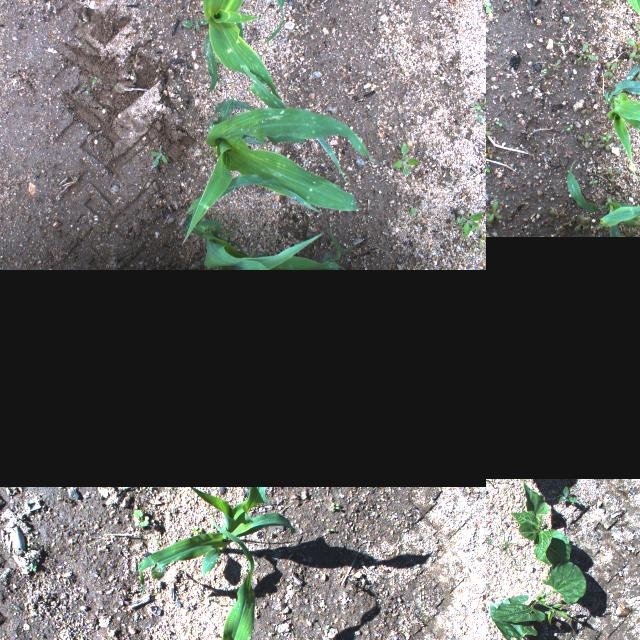crop: (181, 64, 371, 246), (137, 486, 295, 594), (120, 515, 254, 640), (182, 174, 356, 268), (202, 0, 313, 100), (541, 0, 640, 76), (491, 562, 585, 626), (566, 160, 640, 236), (510, 482, 570, 564), (605, 61, 640, 182), (489, 594, 557, 640), (239, 0, 287, 45)
weed: (486, 530, 518, 564), (392, 142, 422, 176), (457, 210, 483, 238), (570, 43, 596, 63), (150, 144, 168, 170), (182, 15, 212, 30), (572, 215, 592, 233), (487, 200, 503, 222), (602, 60, 618, 80), (556, 485, 576, 501), (626, 37, 640, 58), (598, 135, 614, 151), (134, 508, 148, 526), (607, 168, 621, 184), (620, 226, 638, 237), (474, 94, 486, 109), (202, 148, 214, 162), (562, 216, 576, 228), (549, 209, 565, 219), (476, 232, 486, 247), (550, 58, 562, 70), (579, 104, 589, 115), (204, 58, 222, 64), (208, 148, 218, 158), (544, 217, 554, 227), (486, 147, 494, 159), (576, 134, 584, 146), (578, 136, 594, 142), (502, 101, 510, 111), (486, 123, 491, 139), (504, 181, 514, 189), (602, 133, 612, 141), (562, 60, 572, 68), (622, 190, 632, 198), (486, 217, 492, 229), (603, 0, 615, 6), (636, 62, 640, 80), (635, 23, 640, 37), (408, 208, 416, 216), (556, 227, 564, 235), (566, 123, 574, 131), (596, 58, 604, 66), (192, 525, 200, 533), (478, 112, 484, 122), (332, 183, 342, 189), (486, 0, 491, 12), (486, 157, 489, 177), (588, 179, 598, 185), (618, 17, 628, 23), (586, 133, 590, 147), (488, 119, 494, 127), (324, 625, 330, 633), (331, 502, 339, 508), (482, 591, 486, 603), (635, 51, 640, 60), (486, 134, 492, 141), (507, 0, 517, 4), (481, 602, 486, 610), (496, 120, 502, 126), (540, 68, 548, 72), (618, 59, 622, 67), (554, 42, 568, 44), (486, 150, 488, 161), (326, 528, 334, 530), (504, 0, 509, 2)
